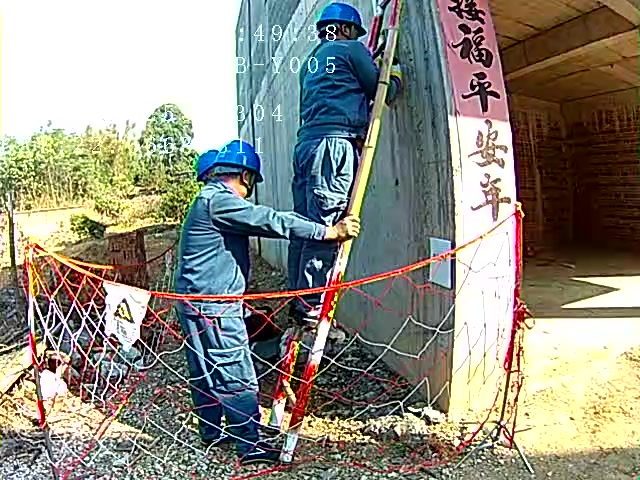halt: (213, 142, 266, 198), (318, 4, 368, 44), (196, 151, 224, 184)
inear: (241, 170, 257, 193), (338, 24, 357, 43)
